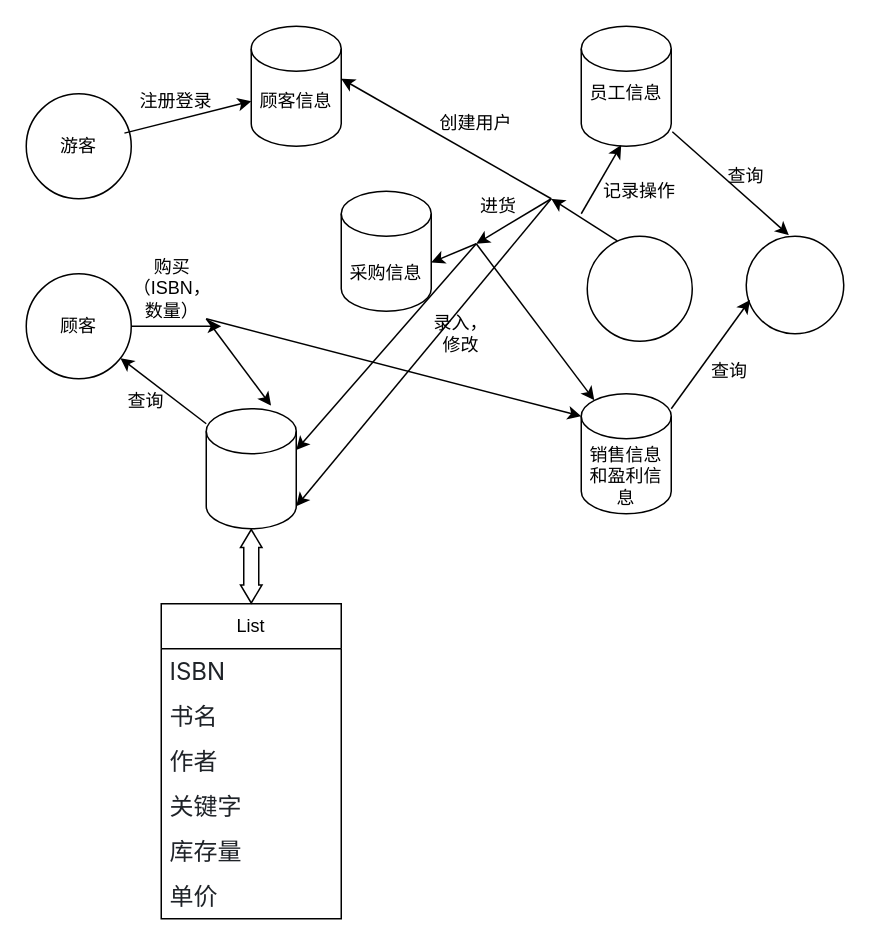
The diagram is 870 pixels wide and 945 high, and some of its shapes have lost their labels. Here are the shapes that lost their labels. From the top down, the centre of each, then its label:
At (x=639, y=288): "销售人员".
At (x=794, y=284): "店长".
At (x=250, y=468): "图书信息".
